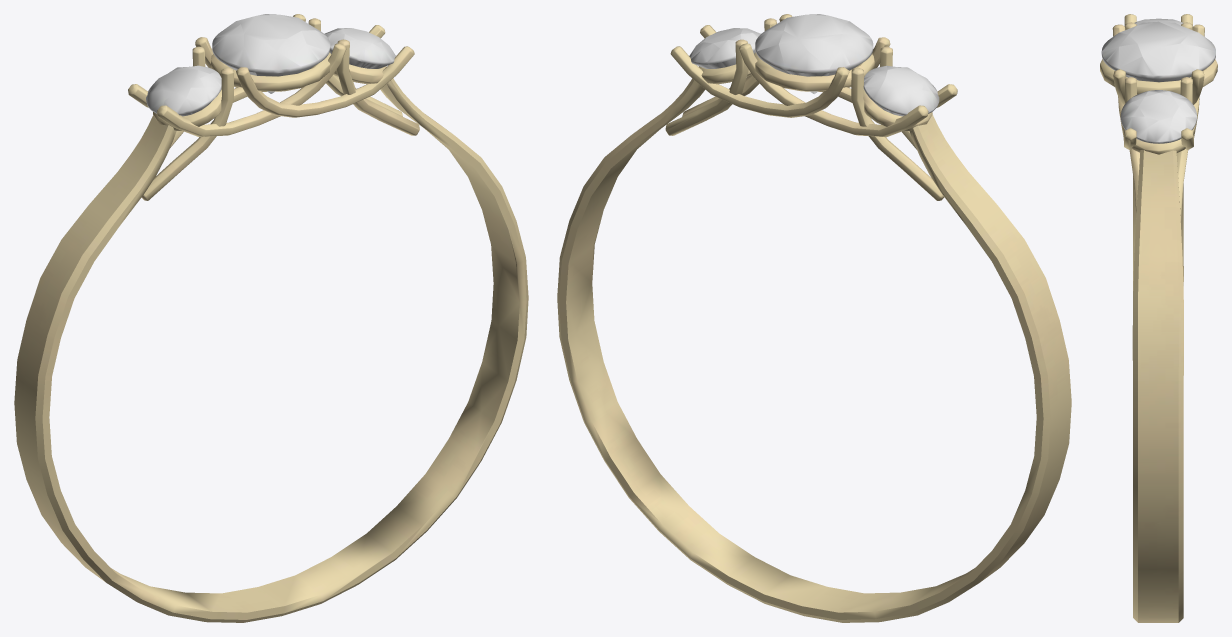
The model's file is diamond_ring__3d_model.glb.
3 renders of one model, left to right at view 1: azimuth 30°, elevation 25°; view 2: azimuth 150°, elevation 25°; view 3: azimuth 270°, elevation 25°, orthographic. The views are drawn at different scales.
Visible parts, largest first — view 1: ring_02_mesh_ring_0; view 2: ring_02_mesh_ring_0; view 3: ring_02_mesh_ring_0.
Part boxes in pixels (<box>): ring_02_mesh_ring_0: <box>14,14,528,622</box>; ring_02_mesh_ring_0: <box>557,14,1071,622</box>; ring_02_mesh_ring_0: <box>1100,14,1217,622</box>.
Size of the model in its own units: 0.0238 by 0.0268 by 0.0051.
Materials: 1 (1 with a texture image).
